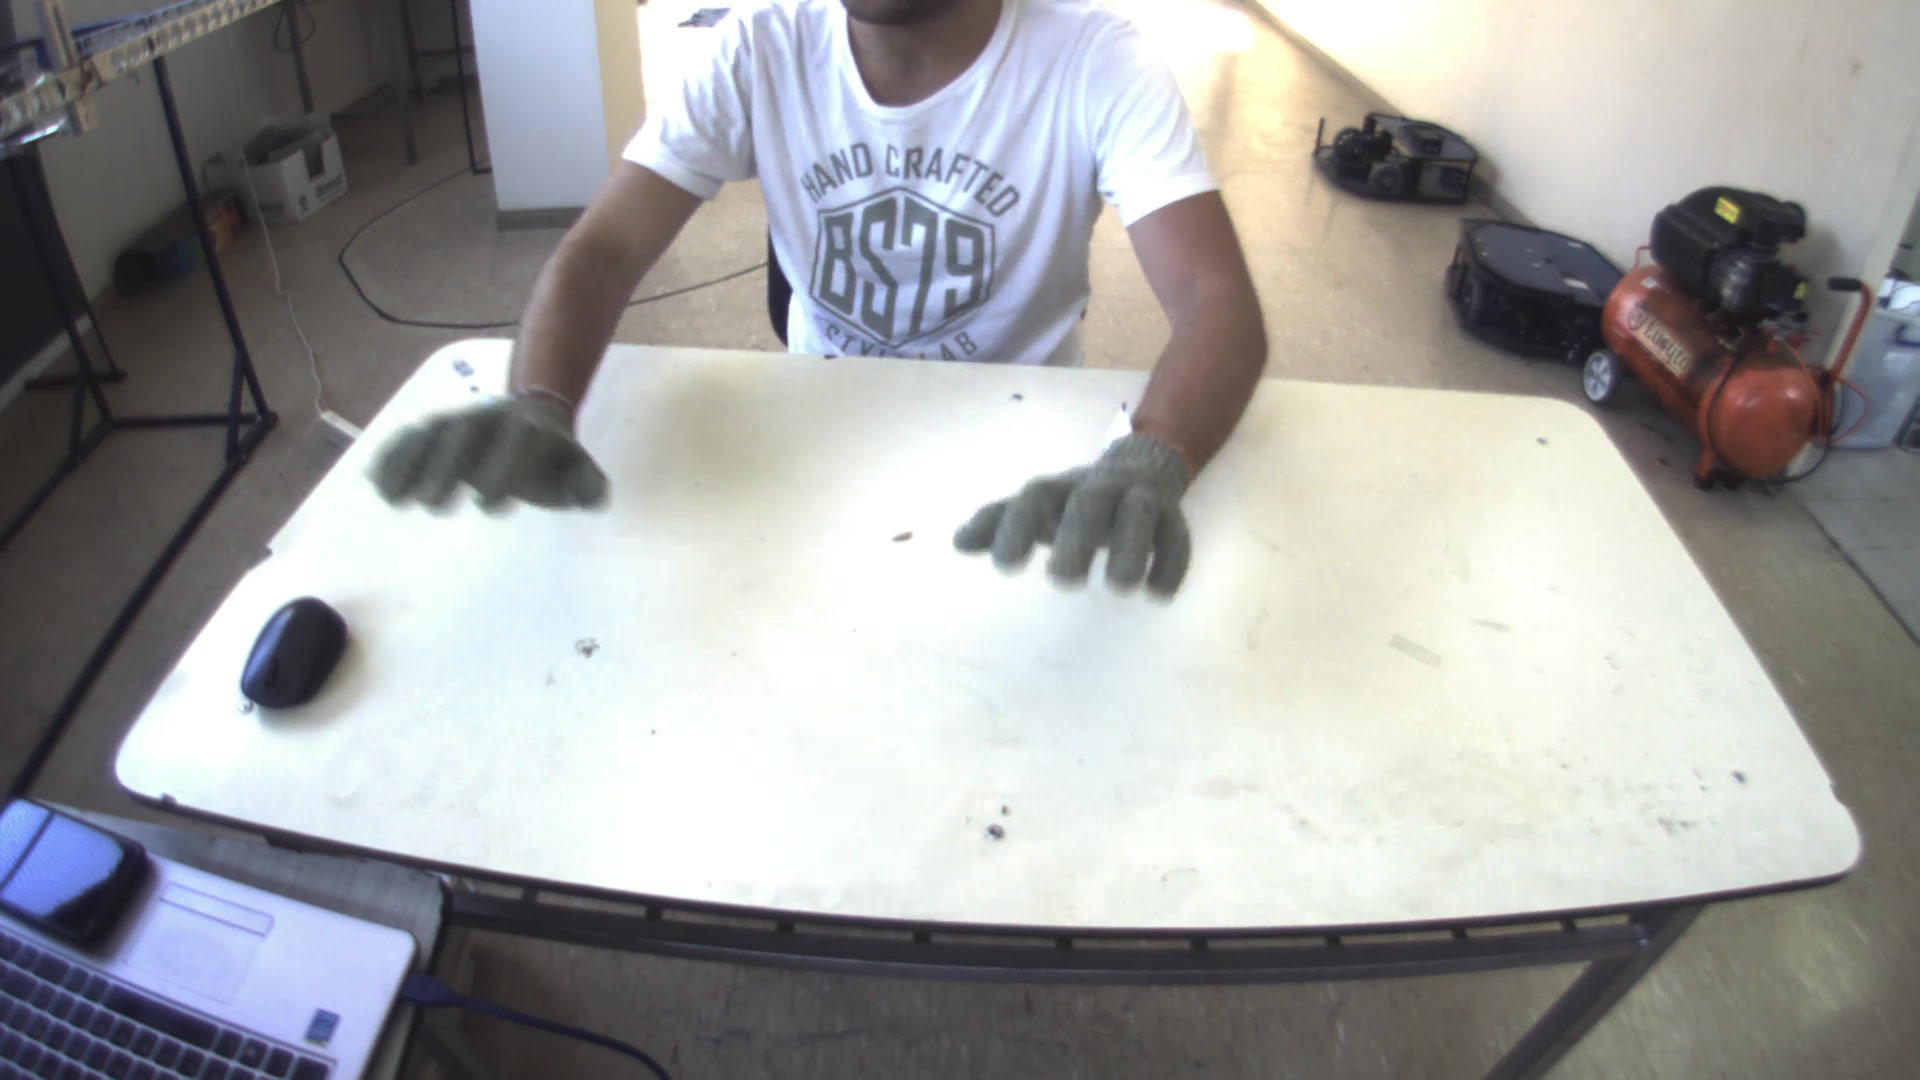hand: (959, 414, 1211, 603), (364, 378, 608, 522)
